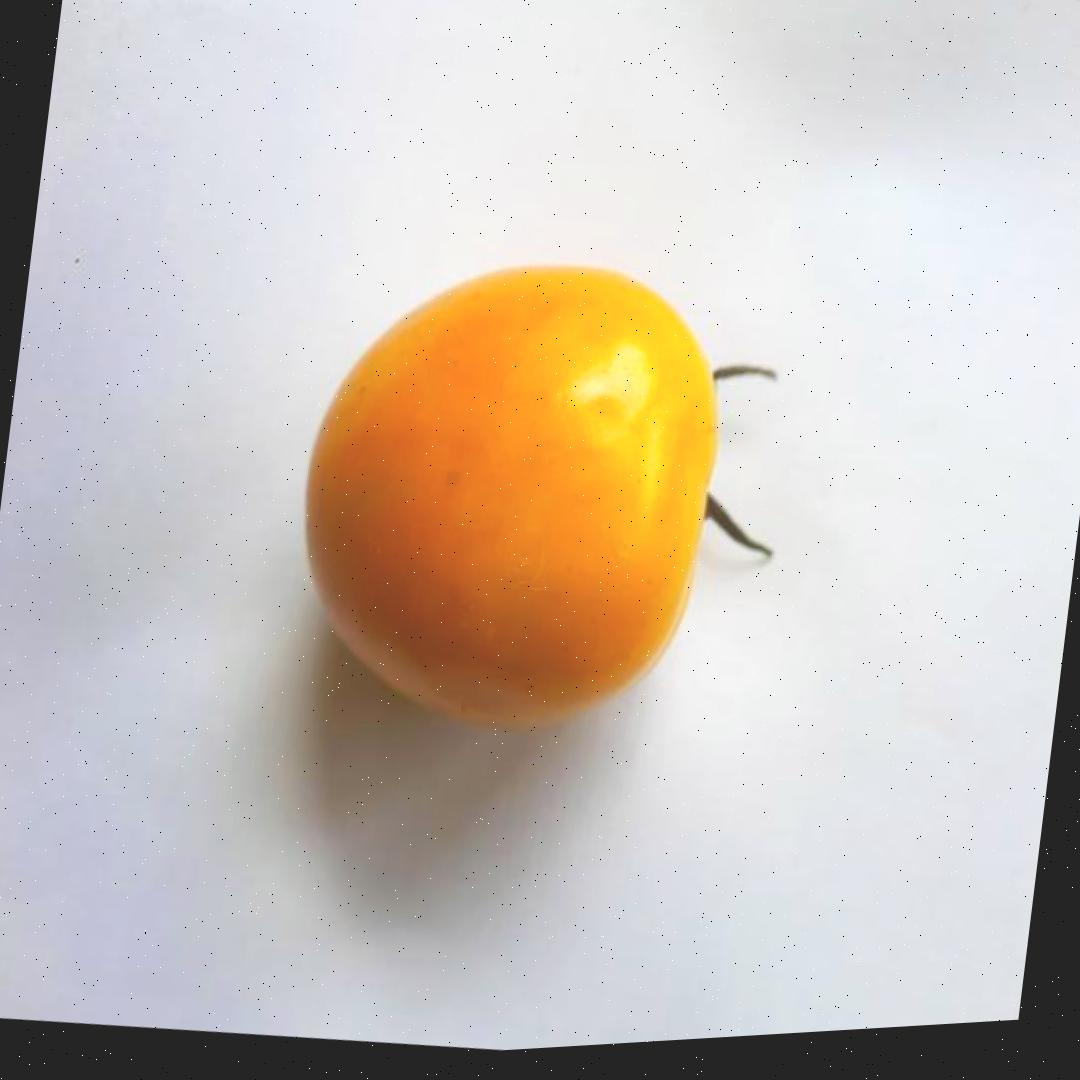setengah_matang: (274, 222, 738, 763)
